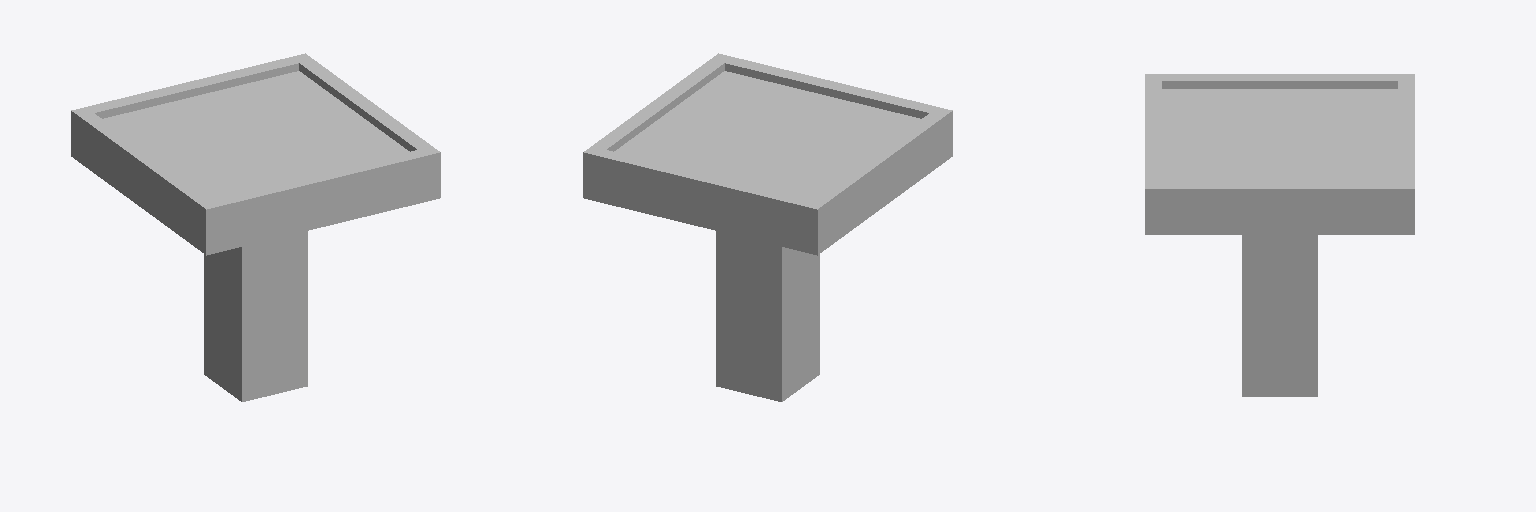
File: table.obj
The picture shows the model from 3 angles: view 1: azimuth 30°, elevation 25°; view 2: azimuth 150°, elevation 25°; view 3: azimuth 270°, elevation 25°; orthographic projection.
Visible parts, largest first — view 1: cube; view 2: cube; view 3: cube.
Part boxes in pixels (bbox=[...]): cube: bbox=[71, 53, 440, 401]; cube: bbox=[583, 53, 952, 401]; cube: bbox=[1145, 74, 1414, 396].
Bounding box in the file's own units: 1 × 1.02 × 1.